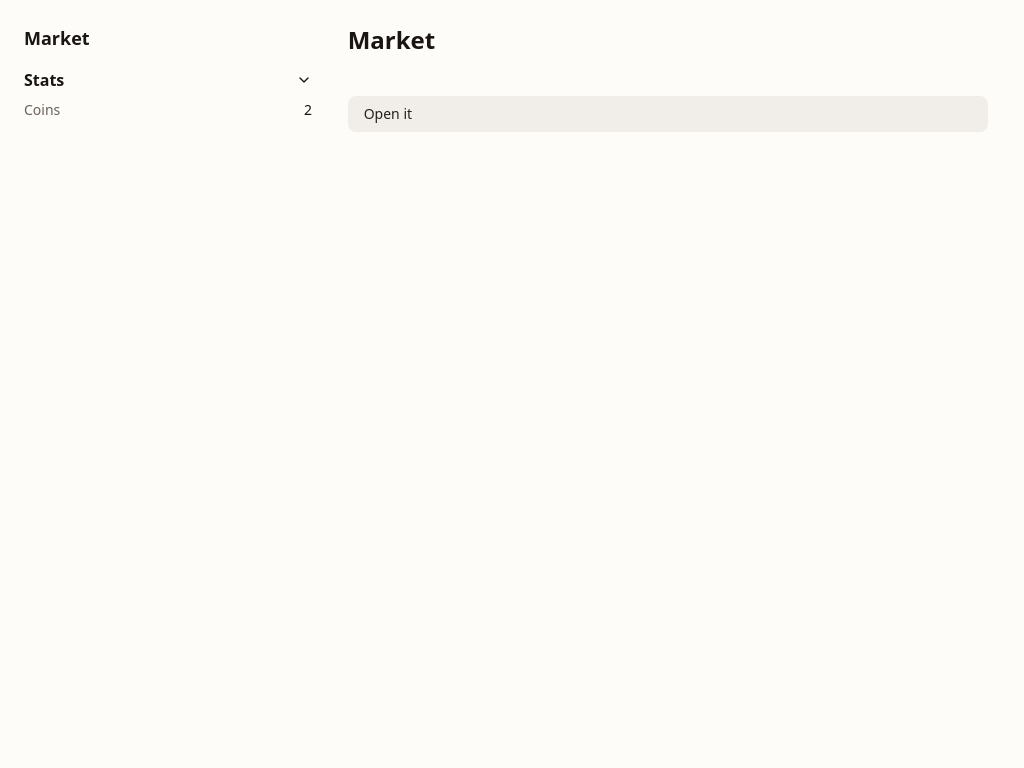
Test: a panel found by name › a plugin UI’s over a built-in: stats draws "Board stats"
The width and height of the screenshot is (1024, 768).
What coordinates should you click on to do the following:
click the button "Open it"
I would click on:
 (388, 114)
Its box is top-left (348, 96), bottom-right (988, 132).
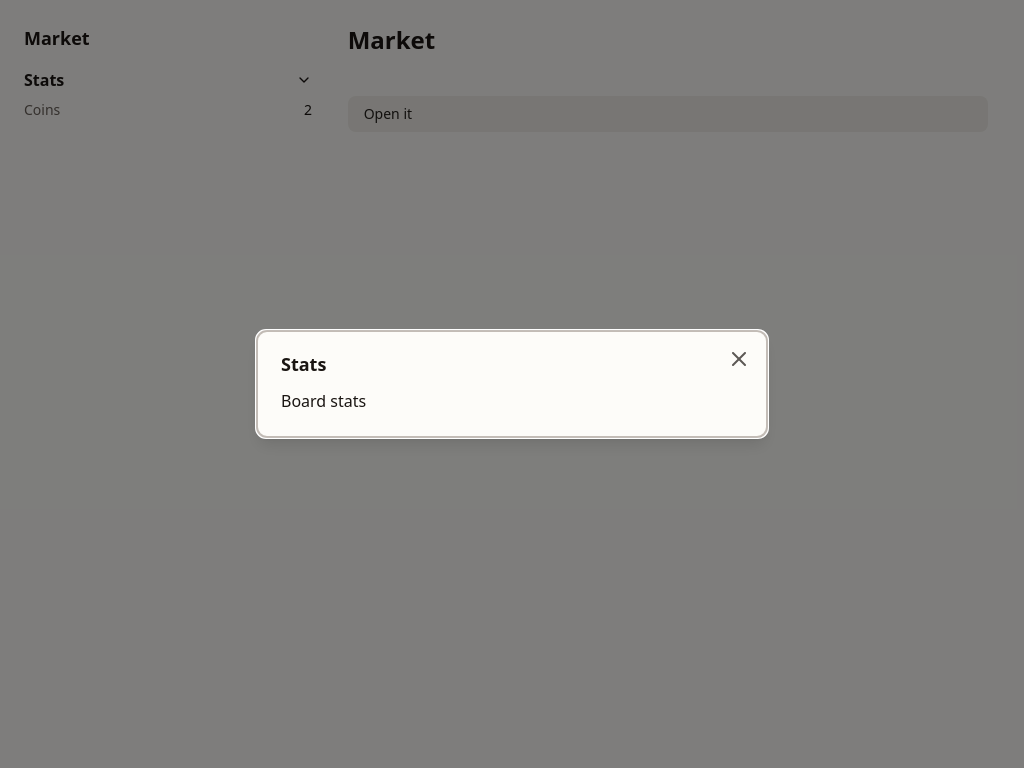
Expected: the dialog shows "Board stats", top-left (281, 390), bottom-right (366, 412)
